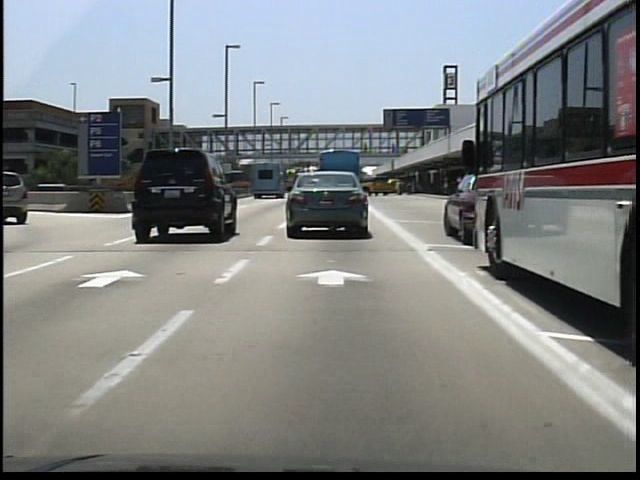person: (392, 177, 406, 199), (388, 136, 401, 158), (360, 137, 373, 157)
